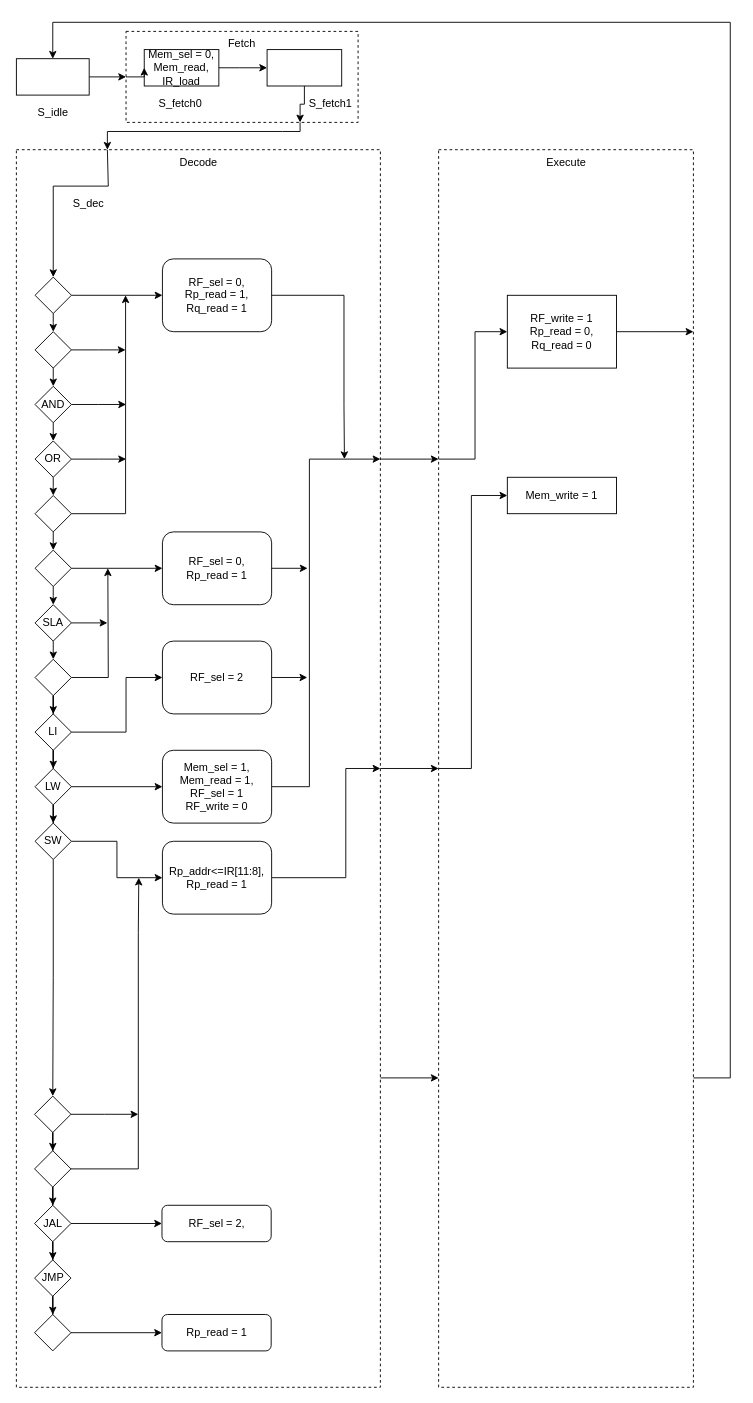
The diagram is 753 pixels wide and 1403 high, and some of its shapes have lost their labels. The centre of each missing label's shape, as x and y in pixels:
ADD: (52,294)
BIZ: (52,1113)
BNZ: (52,1168)
idle: (52,76)
JR: (52,1332)
NOT: (52,567)
PC_inc: (304,67)
SRA: (52,677)
SUB: (52,349)
XOR: (52,513)
